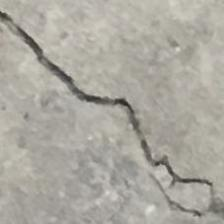Crack: (0, 13, 224, 203)
